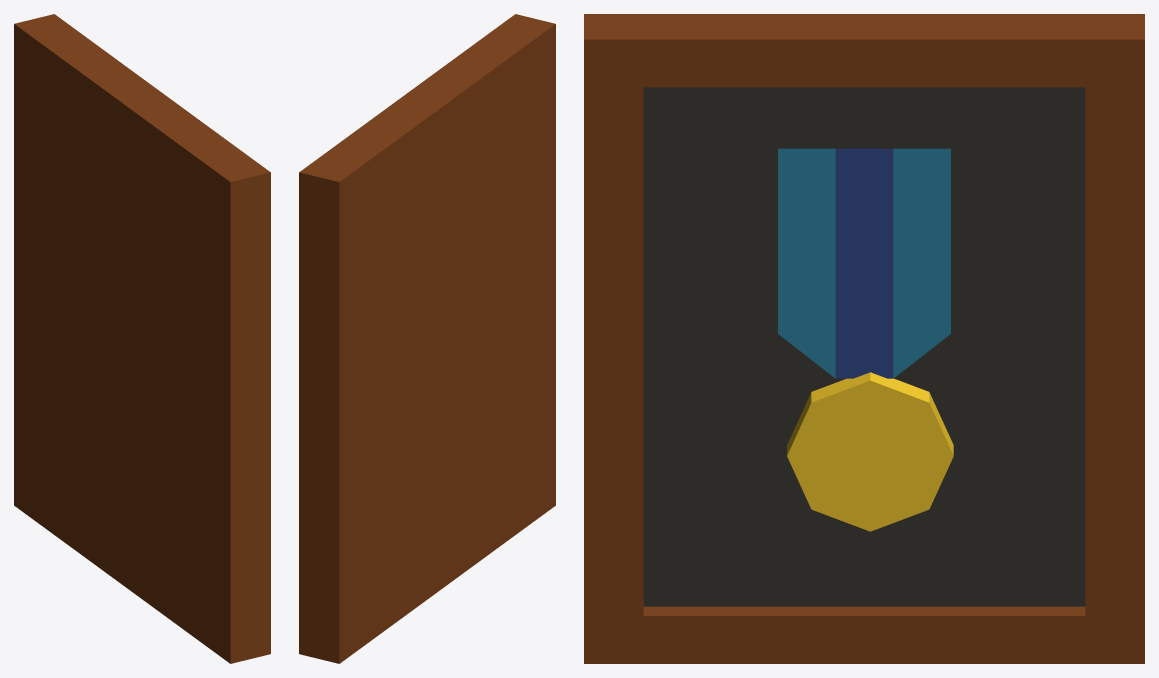
The model's file is SM_Frame_01.glb.
3 renders of one model, left to right at view 1: azimuth 30°, elevation 25°; view 2: azimuth 150°, elevation 25°; view 3: azimuth 270°, elevation 25°, orthographic. The views are drawn at different scales.
Visible parts, largest first — view 1: SM_Frame_01; view 2: SM_Frame_01; view 3: SM_Frame_01.
Boxes of the visible parts, x1,y1,x2,y2 form: SM_Frame_01: [14, 14, 270, 663]; SM_Frame_01: [299, 14, 555, 663]; SM_Frame_01: [584, 14, 1144, 663].
Bounding box in the file's own units: 0.0354 × 0.3543 × 0.2884.
Materials: 1 (1 with a texture image).
